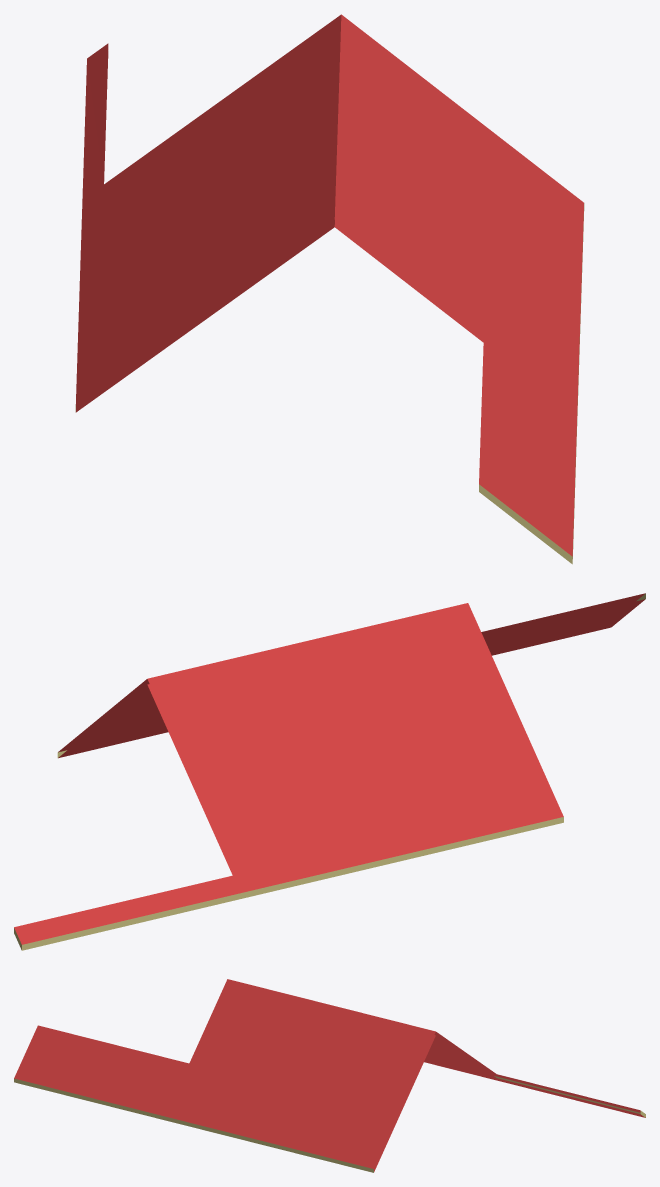
3 renders of one model, top to bottom at view 1: azimuth 30°, elevation 25°; view 2: azimuth 150°, elevation 25°; view 3: azimuth 270°, elevation 25°, orthographic. The views are drawn at different scales.
Bounding box in the file's own units: 7.92 × 14.73 × 2.51.
